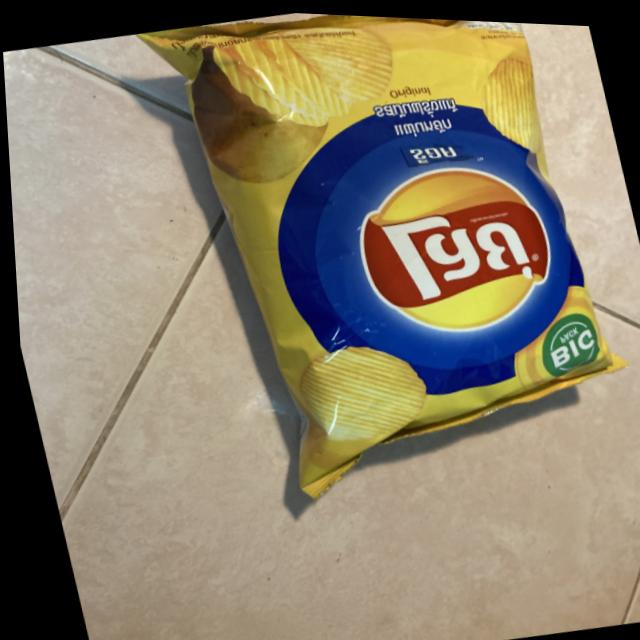LayYellow: (178, 6, 634, 509)
